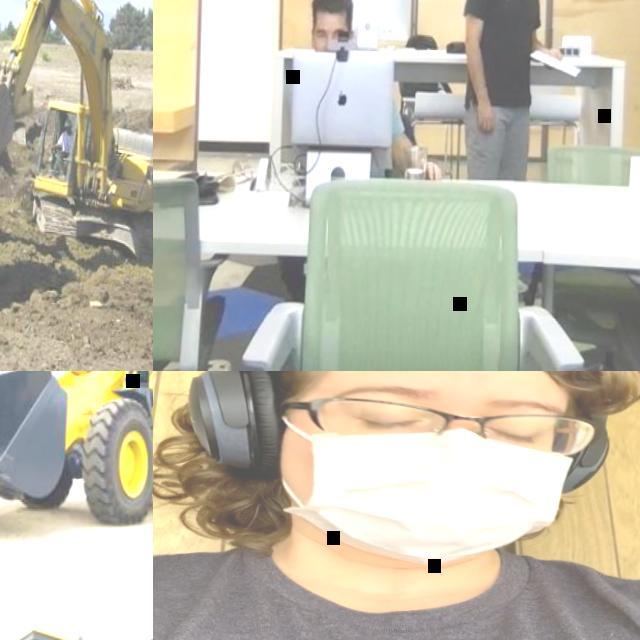helmet: (64, 118, 72, 126)
